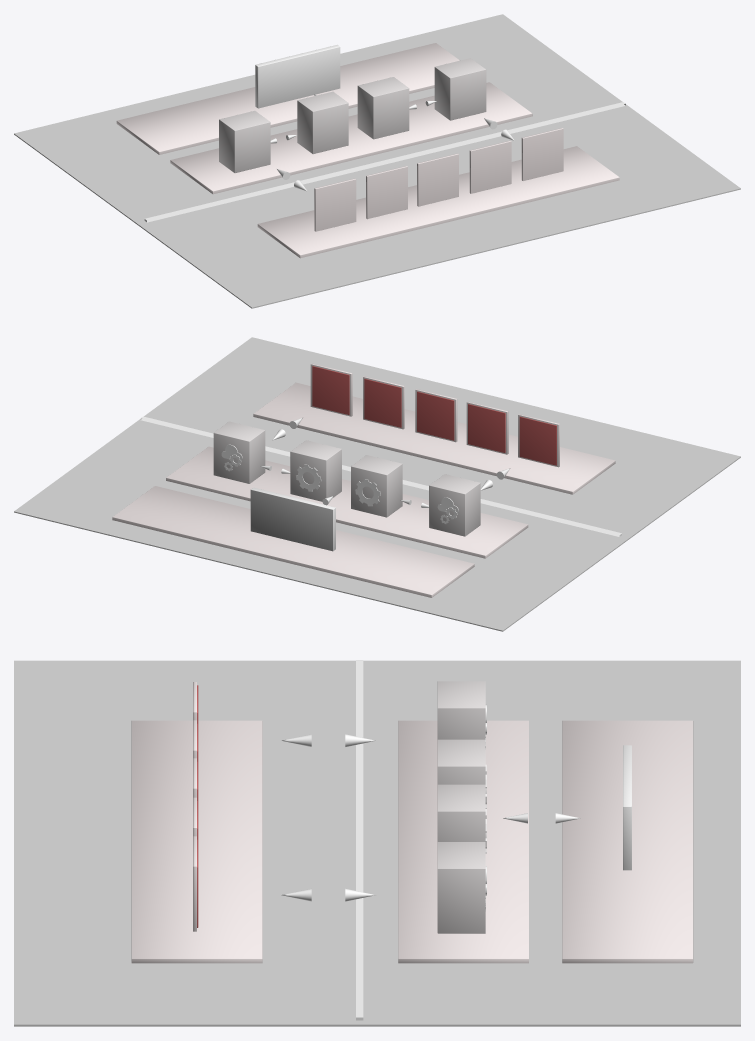
Rendered from globe1.glb.
3 views of the same model, one above another, from view 1: azimuth 30°, elevation 25°; view 2: azimuth 150°, elevation 25°; view 3: azimuth 270°, elevation 25° (orthographic). The views are drawn at different scales.
Parts seen in each view (by area): view 1: Box002, ChamferBox050, ChamferBox030, ChamferBox049, ChamferBox003, ChamferBox046, ChamferBox017, ChamferBox047, ChamferBox048, Object_50, ChamferBox042, ChamferBox032 (+3 smaller); view 2: Box002, ChamferBox030, ChamferBox050, ChamferBox049, ChamferBox003, ChamferBox017, ChamferBox048, ChamferBox047, ChamferBox046, ChamferBox033, ChamferBox034, ChamferBox040 (+3 smaller); view 3: Box002, ChamferBox050, ChamferBox030, ChamferBox049, ChamferBox017, ChamferBox048, ChamferBox046, Object_50, ChamferBox047, ChamferBox003.
Part boxes in pixels (box(x1,y1,x2,y2)): Box002: box(14, 14, 740, 308); ChamferBox050: box(257, 146, 619, 258); ChamferBox030: box(116, 43, 459, 154); ChamferBox049: box(170, 82, 532, 194); ChamferBox003: box(255, 44, 340, 108); ChamferBox046: box(357, 77, 409, 139); ChamferBox017: box(434, 58, 486, 120); ChamferBox047: box(297, 91, 348, 153); ChamferBox048: box(219, 110, 270, 172); Object_50: box(144, 102, 625, 222); ChamferBox042: box(314, 178, 356, 231); ChamferBox032: box(469, 140, 511, 193); Box002: box(14, 337, 740, 631); ChamferBox030: box(112, 486, 474, 597); ChamferBox050: box(253, 382, 615, 494); ChamferBox049: box(166, 446, 528, 558); ChamferBox003: box(250, 487, 335, 551); ChamferBox017: box(213, 421, 265, 483); ChamferBox048: box(429, 474, 480, 536); ChamferBox047: box(351, 455, 402, 517); ChamferBox046: box(290, 440, 341, 501); ChamferBox033: box(364, 379, 401, 427); ChamferBox034: box(417, 391, 454, 440); ChamferBox040: box(468, 404, 505, 452); Box002: box(14, 660, 740, 1026); ChamferBox050: box(131, 720, 262, 963); ChamferBox030: box(562, 720, 693, 963); ChamferBox049: box(398, 720, 528, 963); ChamferBox017: box(437, 842, 485, 933); ChamferBox048: box(437, 681, 485, 739); ChamferBox046: box(437, 784, 485, 841); Object_50: box(356, 660, 363, 1020); ChamferBox047: box(437, 739, 485, 784); ChamferBox003: box(623, 745, 631, 870).
Size of the model in its own units: 0.2409 by 0.022 by 0.2032.
